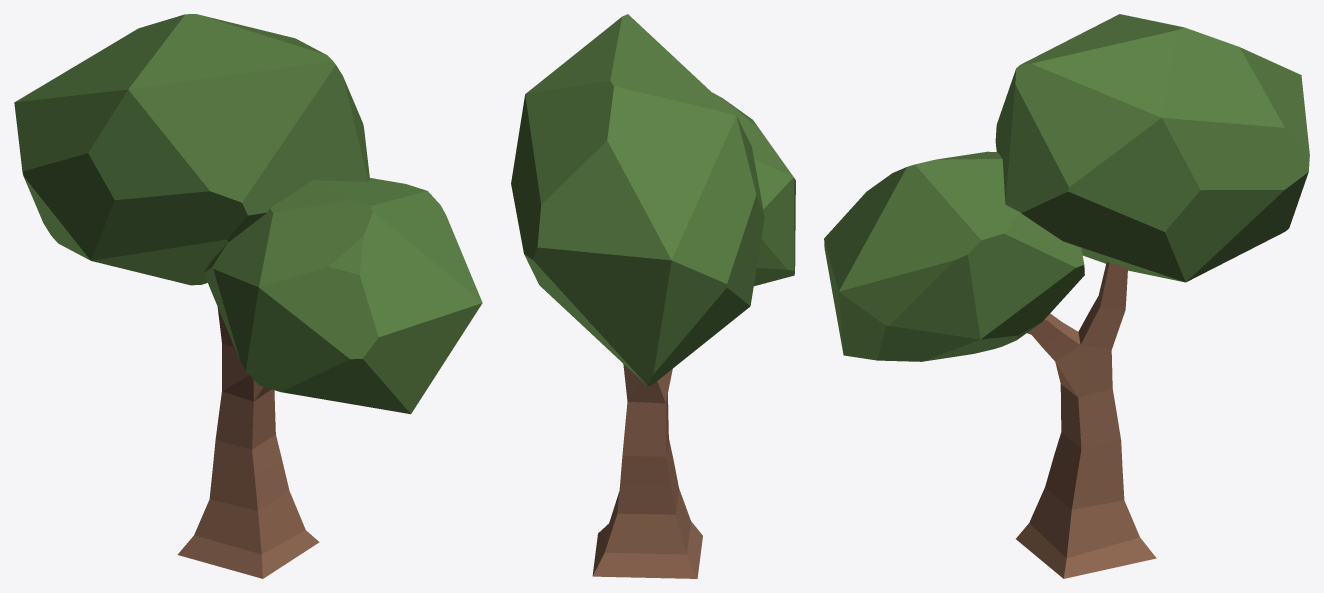
File: Tree.fbx
3 views of the same model, side by side, from view 1: azimuth 30°, elevation 25°; view 2: azimuth 150°, elevation 25°; view 3: azimuth 270°, elevation 25° (orthographic). The views are drawn at different scales.
Parts seen in each view (by area): view 1: Icosphere.007, Vert.003; view 2: Icosphere.007, Vert.003; view 3: Icosphere.007, Vert.003.
Part boxes in pixels (box(x1,y1,x2,y2)): Icosphere.007: box(14, 14, 482, 414); Vert.003: box(177, 307, 319, 578); Icosphere.007: box(511, 14, 795, 386); Vert.003: box(592, 364, 702, 578); Icosphere.007: box(824, 14, 1309, 361); Vert.003: box(1016, 262, 1156, 578).
Size of the model in its own units: 584 by 982 by 839.
